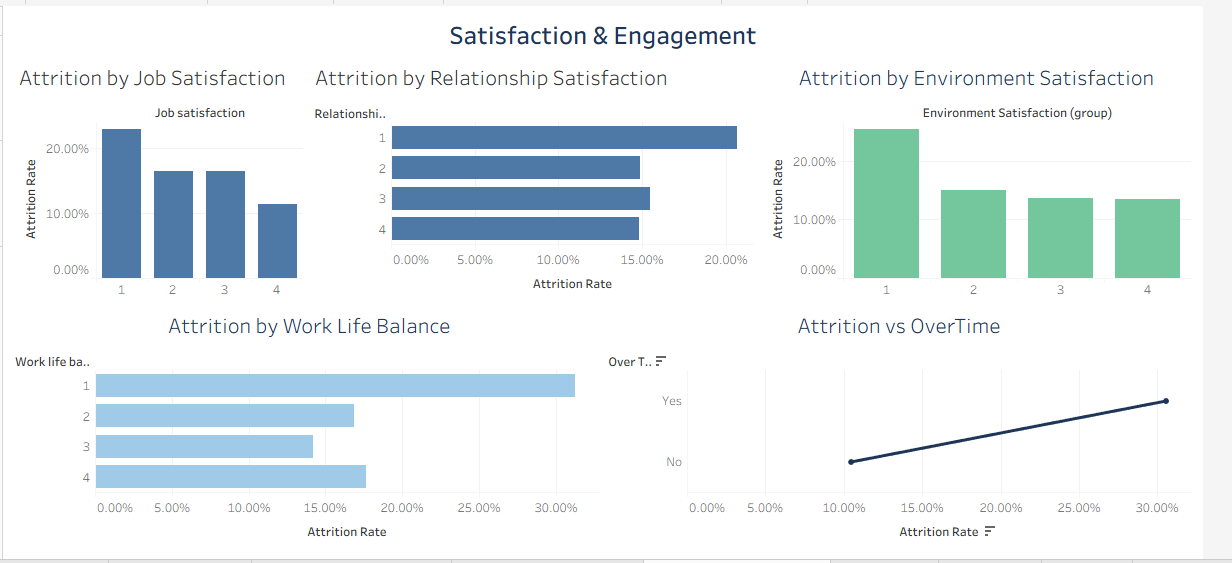

The page's visual inventory and layout, read from the dashboard file:
{"tool":"tableau","page":{"name":"Satisfaction & Engagement","canvas":[1000,1000],"units":"permille","ordinal":3},"visuals":[{"type":"title","box":[6.7,10,986.7,51.2]},{"type":"worksheet","title":"Attrition by Job Satisfaction","mark":"Automatic","rows":["Calculation_1067071674775252993"],"box":[6.7,61.2,246.7,464.4]},{"type":"worksheet","title":"Attrition by Relationship Satisfaction","mark":"Bar","cols":["Calculation_1067071674775252993"],"box":[253.3,61.2,375.8,464.4]},{"type":"worksheet","title":"Attrition by Environment Satisfaction","mark":"Bar","rows":["Calculation_1067071674775252993"],"box":[629.2,61.2,364.2,464.4]},{"type":"worksheet","title":" Attrition by Work Life Balance","mark":"Automatic","cols":["Calculation_1067071674775252993"],"box":[6.7,525.6,493.3,464.4]},{"type":"worksheet","title":"Attrition vs OverTime","mark":"Line","rows":["OverTime"],"cols":["Calculation_1067071674775252993"],"box":[500,525.6,493.3,464.4]}]}

Visuals, with their boxes on the dashboard's canvas, which has no fixed pixel size, in thousandths of its width and height (x1, y1, x2, y2). These are canvas units, not pixel positions in the 1232x563 screenshot, which may show the page scaled, cropped or inside an application window:
title: x1=7 y1=10 x2=993 y2=61
"Attrition by Job Satisfaction" worksheet: x1=7 y1=61 x2=253 y2=526
"Attrition by Relationship Satisfaction" worksheet (Bar marks): x1=253 y1=61 x2=629 y2=526
"Attrition by Environment Satisfaction" worksheet (Bar marks): x1=629 y1=61 x2=993 y2=526
" Attrition by Work Life Balance" worksheet: x1=7 y1=526 x2=500 y2=990
"Attrition vs OverTime" worksheet (Line marks): x1=500 y1=526 x2=993 y2=990
